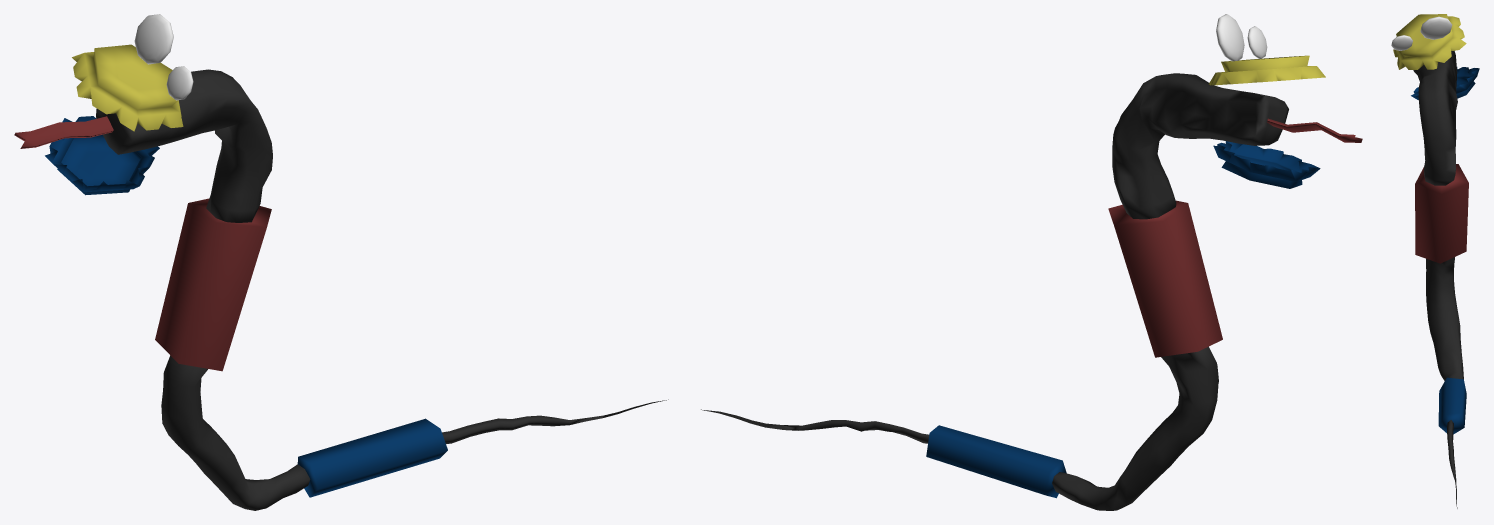
The model's file is Worm_Dirty_Posed.fbx.
3 renders of one model, left to right at view 1: azimuth 30°, elevation 25°; view 2: azimuth 150°, elevation 25°; view 3: azimuth 270°, elevation 25°, orthographic. The views are drawn at different scales.
Visible parts, largest first — view 1: dirtyworm_posed; view 2: dirtyworm_posed; view 3: dirtyworm_posed.
Part boxes in pixels (x1=…): dirtyworm_posed: x1=14, y1=14, x2=668, y2=510; dirtyworm_posed: x1=701, y1=14, x2=1362, y2=510; dirtyworm_posed: x1=1391, y1=14, x2=1479, y2=508.
Bounding box in the file's own units: 8.46 × 6.41 × 1.53.
